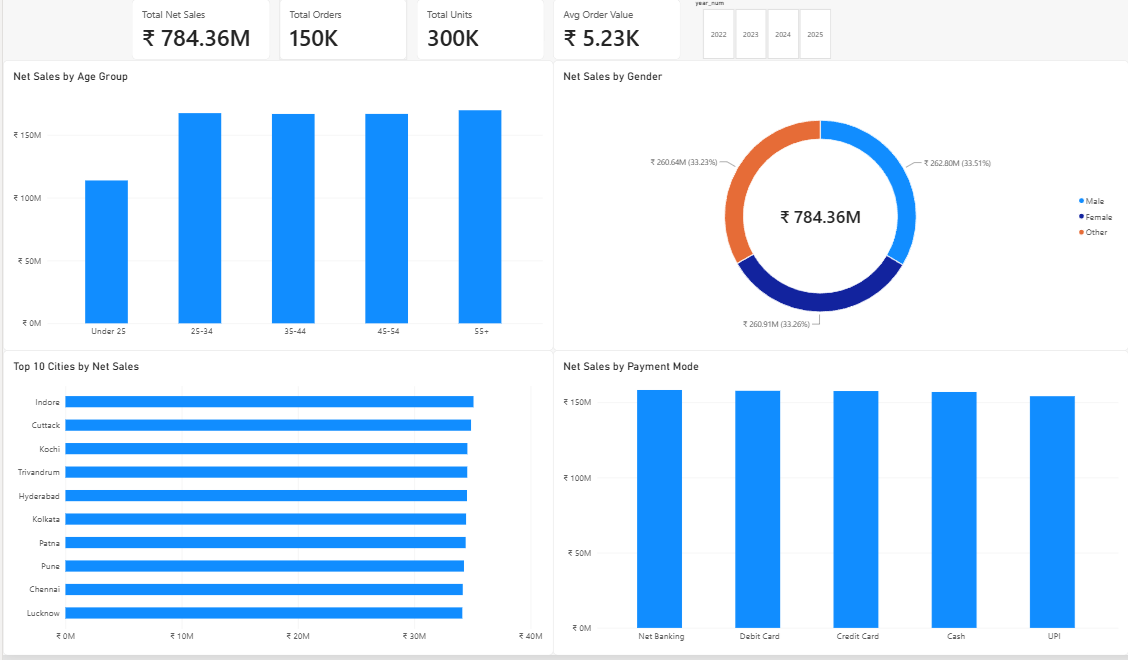

This screenshot's page, from the dashboard's own definition file:
{"tool":"powerbi","page":{"name":"Customer Trends","canvas":[1920,1080],"ordinal":2},"visuals":[{"type":"cardVisual","fields":{"Data":["fact_sales.Total Net Sales"]},"box":[212,0,228,100],"z":0},{"type":"cardVisual","fields":{"Data":["fact_sales.Avg Order Value"]},"box":[906.5,0,210,100],"z":1},{"type":"cardVisual","fields":{"Data":["fact_sales.Total Orders"]},"box":[455.5,0,210,100],"z":2},{"type":"cardVisual","fields":{"Data":["fact_sales.Total Units"]},"box":[681,0,210,100],"z":3},{"type":"slicer","fields":{"Values":["dim_date.year_num"]},"box":[1132,0,250,100],"z":4},{"type":"clusteredColumnChart","title":"Net Sales by Age Group","fields":{"Category":["fact_sales.Age Group"],"Y":["fact_sales.Total Net Sales"]},"box":[0,100,906,478],"z":5},{"type":"donutChart","title":"Net Sales by Gender","fields":{"Category":["fact_sales.customer_gender"],"Y":["fact_sales.Total Net Sales"]},"box":[906,100,948,478],"z":6},{"type":"clusteredBarChart","title":"Top 10 Cities by Net Sales","fields":{"Category":["dim_location.city"],"Y":["fact_sales.Total Net Sales"]},"box":[0,578,906,502],"z":7},{"type":"clusteredColumnChart","title":" Net Sales by Payment Mode","fields":{"Category":["dim_payment.payment_mode"],"Y":["fact_sales.Total Net Sales"]},"box":[906,578,948,502],"z":8}]}

Visuals, with their boxes on the page's 1920x1080 design canvas (x1, y1, x2, y2). These are canvas units, not pixel positions in the 1128x660 screenshot, which may show the page scaled, cropped or inside an application window:
cardVisual - fact_sales.Total Net Sales: l=212, t=0, r=440, b=100
cardVisual - fact_sales.Avg Order Value: l=906, t=0, r=1116, b=100
cardVisual - fact_sales.Total Orders: l=456, t=0, r=666, b=100
cardVisual - fact_sales.Total Units: l=681, t=0, r=891, b=100
slicer - dim_date.year_num: l=1132, t=0, r=1382, b=100
"Net Sales by Age Group" clusteredColumnChart: l=0, t=100, r=906, b=578
"Net Sales by Gender" donutChart: l=906, t=100, r=1854, b=578
"Top 10 Cities by Net Sales" clusteredBarChart: l=0, t=578, r=906, b=1080
" Net Sales by Payment Mode" clusteredColumnChart: l=906, t=578, r=1854, b=1080
